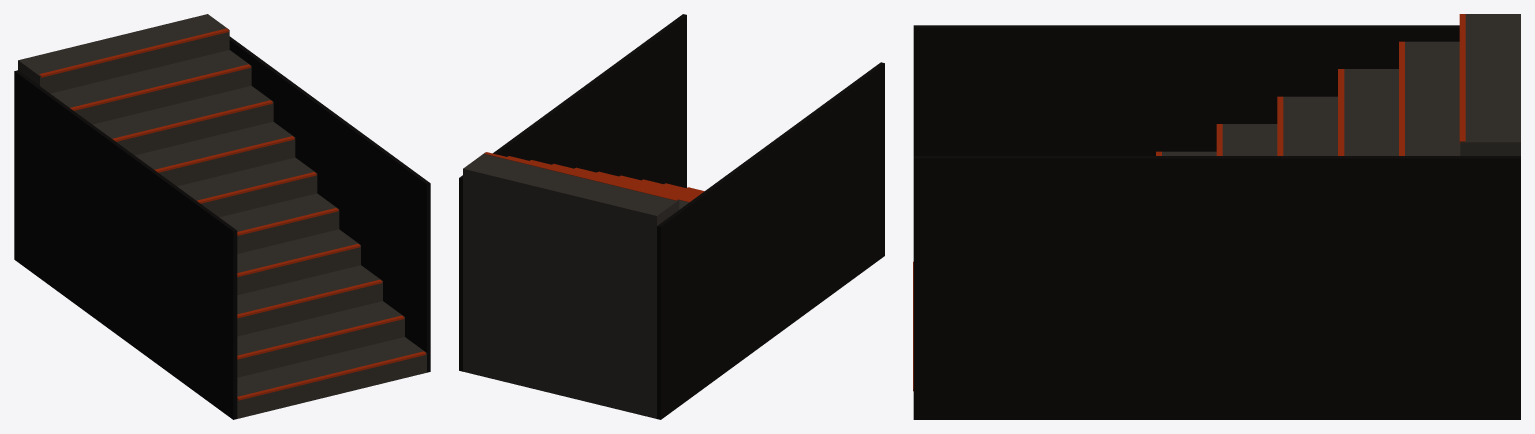
The model's file is SM_Stairs_2x4_Rise2_Hideout.glb.
3 views of the same model, side by side, from view 1: azimuth 30°, elevation 25°; view 2: azimuth 150°, elevation 25°; view 3: azimuth 270°, elevation 25° (orthographic). The views are drawn at different scales.
Visible parts, largest first — view 1: SM_Stairs_2x4_Rise2_Hideout-col; view 2: SM_Stairs_2x4_Rise2_Hideout-col; view 3: SM_Stairs_2x4_Rise2_Hideout-col.
Part boxes in pixels (box(x1,y1,x2,y2)): SM_Stairs_2x4_Rise2_Hideout-col: box(14, 14, 430, 419); SM_Stairs_2x4_Rise2_Hideout-col: box(459, 14, 884, 419); SM_Stairs_2x4_Rise2_Hideout-col: box(913, 14, 1520, 419).
Bounding box in the file's own units: 2.08 × 2 × 4.
